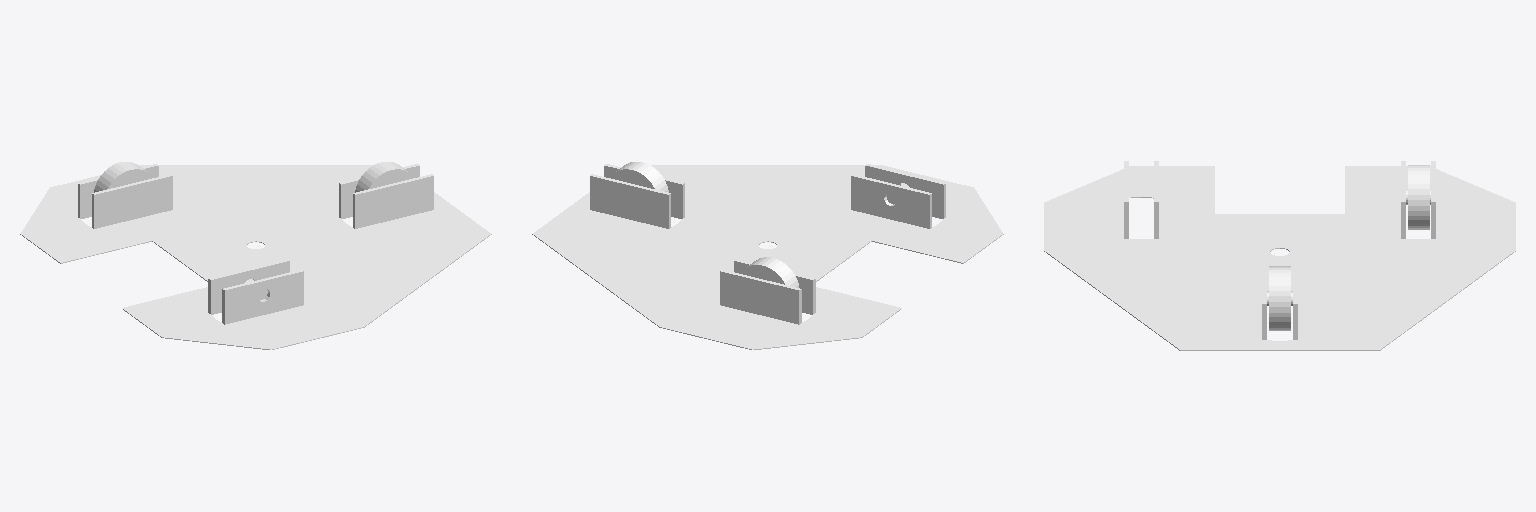
robot.urdf — assembly2:
<?xml version="1.0" encoding="utf-8"?>
<!-- This URDF was automatically created by SolidWorks to URDF Exporter! Originally created by [author] ([email redacted]) 
     Commit Version: 1.6.0-4-g7f85cfe  Build Version: 1.6.7995.38578
     For more information, please see http://wiki.ros.org/sw_urdf_exporter -->
<robot
  name="assembly2">
  <link
    name="base_link">
    <!-- <inertial>
      <origin
        xyz="0.0118126683718567 5.32907051820075E-15 0.0168264325274268"
        rpy="0 0 0" />
      <mass
        value="2.02602598879007" />
      <inertia
        ixx="0.116262533528923"
        ixy="1.67333888769942E-15"
        ixz="0.000426635965188161"
        iyy="0.105009004212767"
        iyz="-2.64059885210771E-17"
        izz="0.218634075178532" />
    </inertial> -->
    <visual>
      <origin
        xyz="0 0 0"
        rpy="0 0 0" />
      <geometry>
        <mesh
          filename="package://assembly2/meshes/base_link.dae" />
      </geometry>
      <material
        name="">
        <color
          rgba="1 1 1 1" />
      </material>
    </visual>
    <collision>
      <origin
        xyz="0 0 0"
        rpy="0 0 0" />
      <geometry>
        <mesh
          filename="package://assembly2/meshes/base_link.dae" />
      </geometry>
    </collision>
  </link>
  <link
    name="Empty_front_Link">
    <!-- <inertial>
      <origin
        xyz="0 0 0"
        rpy="0 0 0" />
      <mass
        value="0.614966761940201" />
      <inertia
        ixx="0.000747517428229084"
        ixy="-5.09031388344709E-36"
        ixz="6.6693162316281E-53"
        iyy="0.00126377436724579"
        iyz="-1.82819510199855E-36"
        izz="0.000747517428229084" />
    </inertial> -->
    <visual>
      <origin
        xyz="0 0 0"
        rpy="0 0 0" />
      <geometry>
        <mesh
          filename="package://assembly2/meshes/Empty_front_Link.dae" />
      </geometry>
      <material
        name="">
        <color
          rgba="1 1 1 1" />
      </material>
    </visual>
    <collision>
      <origin
        xyz="0 0 0"
        rpy="0 0 0" />
      <geometry>
        <mesh
          filename="package://irobot_description/meshes/Empty_front_Link.dae" />
      </geometry>
    </collision>
  </link>
  <joint
    name="Empty_front_Joint"
    type="continuous">
    <origin
      xyz="0.32 0 0.046"
      rpy="0 0 0" />
    <parent
      link="base_link" />
    <child
      link="Empty_front_Link" />
    <axis
      xyz="0 1 0" />
  </joint>
  <link
    name="Empty_left_Link">
    <!-- <inertial>
      <origin
        xyz="0 0 0"
        rpy="0 0 0" />
      <mass
        value="0.614966761940201" />
      <inertia
        ixx="0.000747517428229084"
        ixy="-4.83873113493721E-36"
        ixz="0"
        iyy="0.00126377436724579"
        iyz="-1.82819510199855E-36"
        izz="0.000747517428229084" />
    </inertial> -->
    <visual>
      <origin
        xyz="0 0 0"
        rpy="0 0 0" />
      <geometry>
        <mesh
          filename="package://irobot_description/meshes/Empty_left_Link.dae" />
      </geometry>
      <material
        name="">
        <color
          rgba="1 1 1 1" />
      </material>
    </visual>
    <collision>
      <origin
        xyz="0 0 0"
        rpy="0 0 0" />
      <geometry>
        <mesh
          filename="package://irobot_description/meshes/Empty_left_Link.dae" />
      </geometry>
    </collision>
  </link>
  <joint
    name="Empty_left_Joint"
    type="continuous">
    <origin
      xyz="-0.16 0.27713 0.046"
      rpy="0 0 0" />
    <parent
      link="base_link" />
    <child
      link="Empty_left_Link" />
    <axis
      xyz="0 1 0" />
  </joint>
  <link
    name="Empty_right_Link">
    <!-- <inertial>
      <origin
        xyz="0 0 0"
        rpy="0 0 0" />
      <mass
        value="0.614966761940201" />
      <inertia
        ixx="0.000747517428229084"
        ixy="-4.82102954644529E-36"
        ixz="0"
        iyy="0.00126377436724579"
        iyz="-1.82819510199855E-36"
        izz="0.000747517428229084" />
    </inertial> -->
    <visual>
      <origin
        xyz="0 0 0"
        rpy="0 0 0" />
      <geometry>
        <mesh
          filename="package://irobot_description/meshes/Empty_right_Link.dae" />
      </geometry>
      <material
        name="">
        <color
          rgba="1 1 1 1" />
      </material>
    </visual>
    <collision>
      <origin
        xyz="0 0 0"
        rpy="0 0 0" />
      <geometry>
        <mesh
          filename="package://irobot_description/meshes/Empty_right_Link.dae" />
      </geometry>
    </collision>
  </link>
  <joint
    name="Empty_right_Joint"
    type="continuous">
    <origin
      xyz="-0.16 -0.27713 0.046"
      rpy="0 0 0" />
    <parent
      link="base_link" />
    <child
      link="Empty_right_Link" />
    <axis
      xyz="0 1 0" />
  </joint>
</robot>

--- Render facts (derived) ---
3 views of the same robot in one strip: view 1: azimuth 30°, elevation 25°; view 2: azimuth 150°, elevation 25°; view 3: azimuth 270°, elevation 25° (orthographic).
Robot: assembly2 — 4 links, 3 joints (3 continuous); root link base_link; default pose: every joint at zero.
Links seen in each view (by area): view 1: base_link, Empty_front_Link, Empty_left_Link; view 2: base_link, Empty_left_Link, Empty_front_Link; view 3: base_link, Empty_front_Link, Empty_left_Link.
Link boxes in pixels (x1,y1,x2,y2): base_link: (20, 164, 491, 349); Empty_front_Link: (355, 162, 413, 205); Empty_left_Link: (94, 162, 152, 205); base_link: (532, 164, 1003, 349); Empty_left_Link: (740, 257, 798, 301); Empty_front_Link: (610, 162, 668, 205); base_link: (1044, 161, 1515, 350); Empty_front_Link: (1267, 266, 1292, 330); Empty_left_Link: (1406, 165, 1430, 229).
Size in the robot's own frame: 0.866 by 0.94 by 0.1299 metres.
Meshes: 4 distinct files referenced, 3 mesh visuals loaded (3 Collada DAE); not drawn: 1 (reference not matched to a file when rendering).